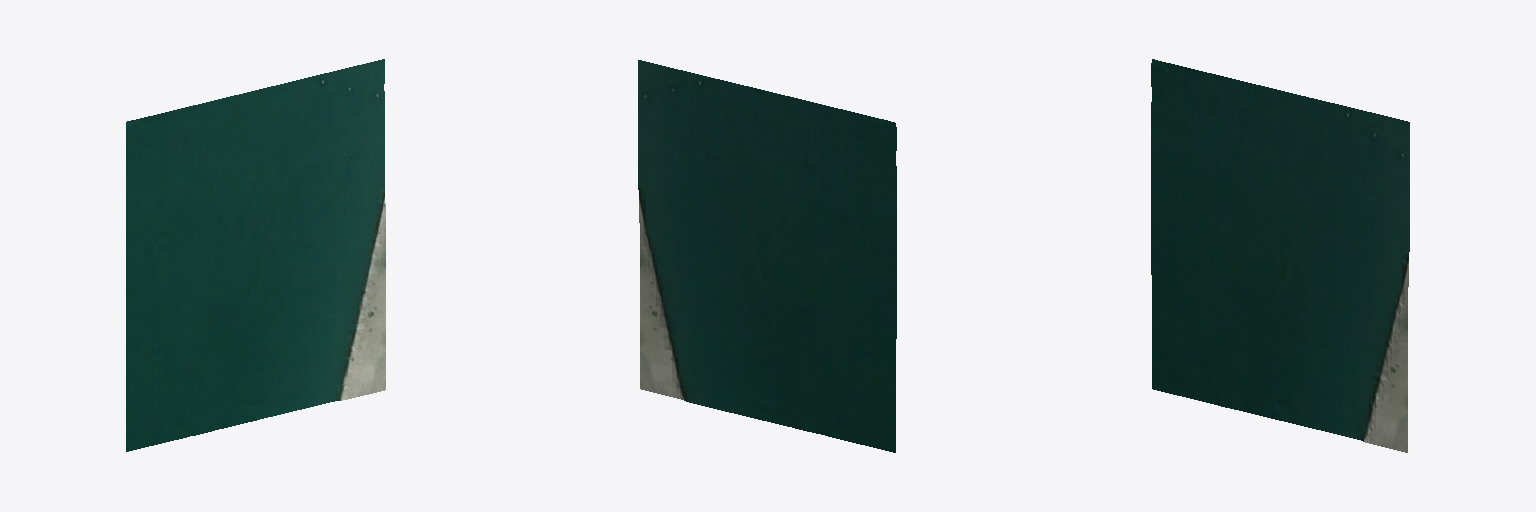
3 renders of one model, left to right at view 1: azimuth 30°, elevation 25°; view 2: azimuth 150°, elevation 25°; view 3: azimuth 330°, elevation 25°, orthographic.
Visible parts, largest first — view 1: 281395_113919; view 2: 281395_113919; view 3: 281395_113919.
Part boxes in pixels (bbox=[...]): 281395_113919: bbox=[126, 59, 385, 451]; 281395_113919: bbox=[638, 60, 896, 452]; 281395_113919: bbox=[1151, 59, 1409, 452].
Size of the model in its own units: 122 by 150 by 1.38.
Materials: 1 (1 with a texture image).